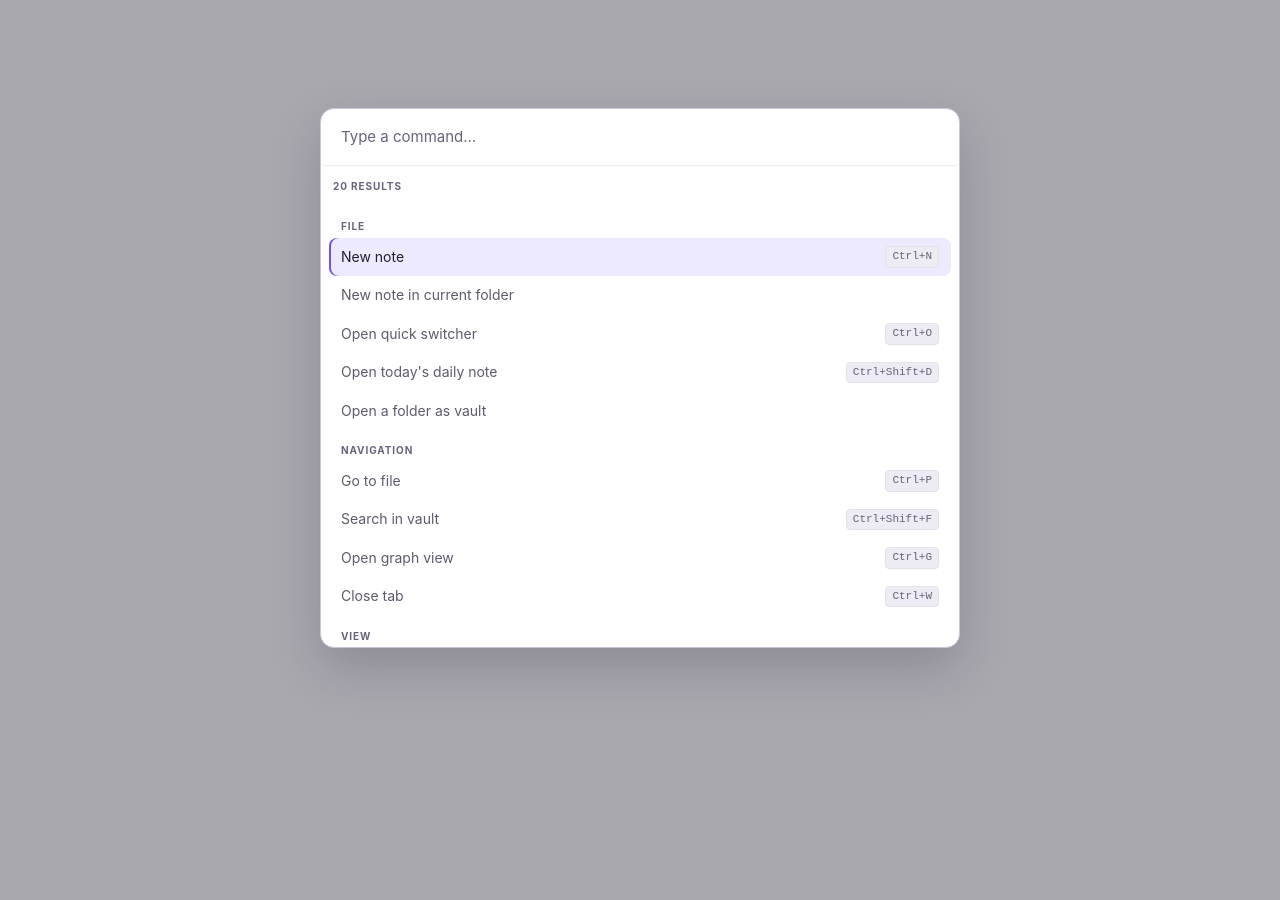
Test: CommandPalette › resets the selection when the query changes
Press ArrowDown in the dropdown, box [321, 109, 959, 166]
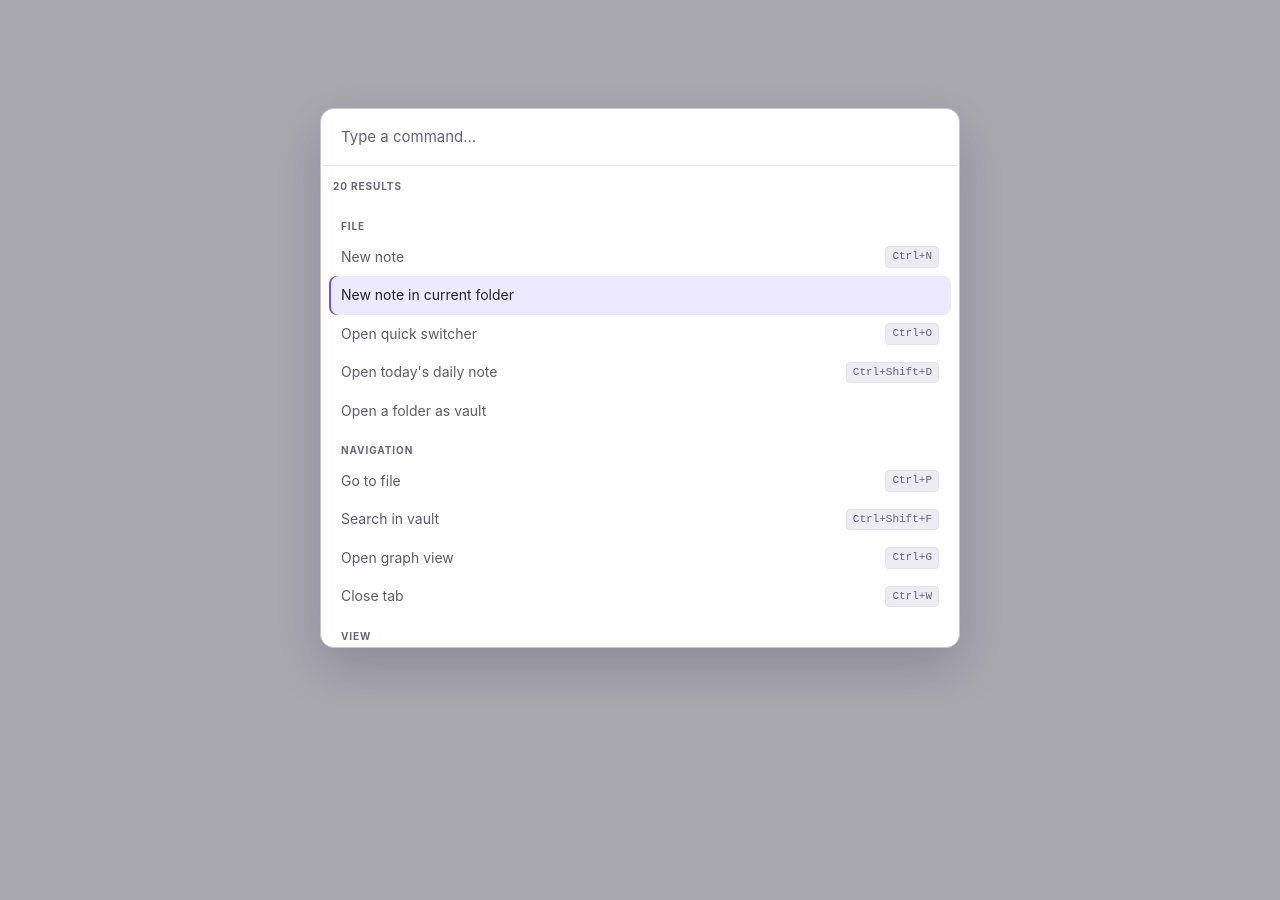
Press ArrowDown in the dropdown, box [321, 109, 959, 166]
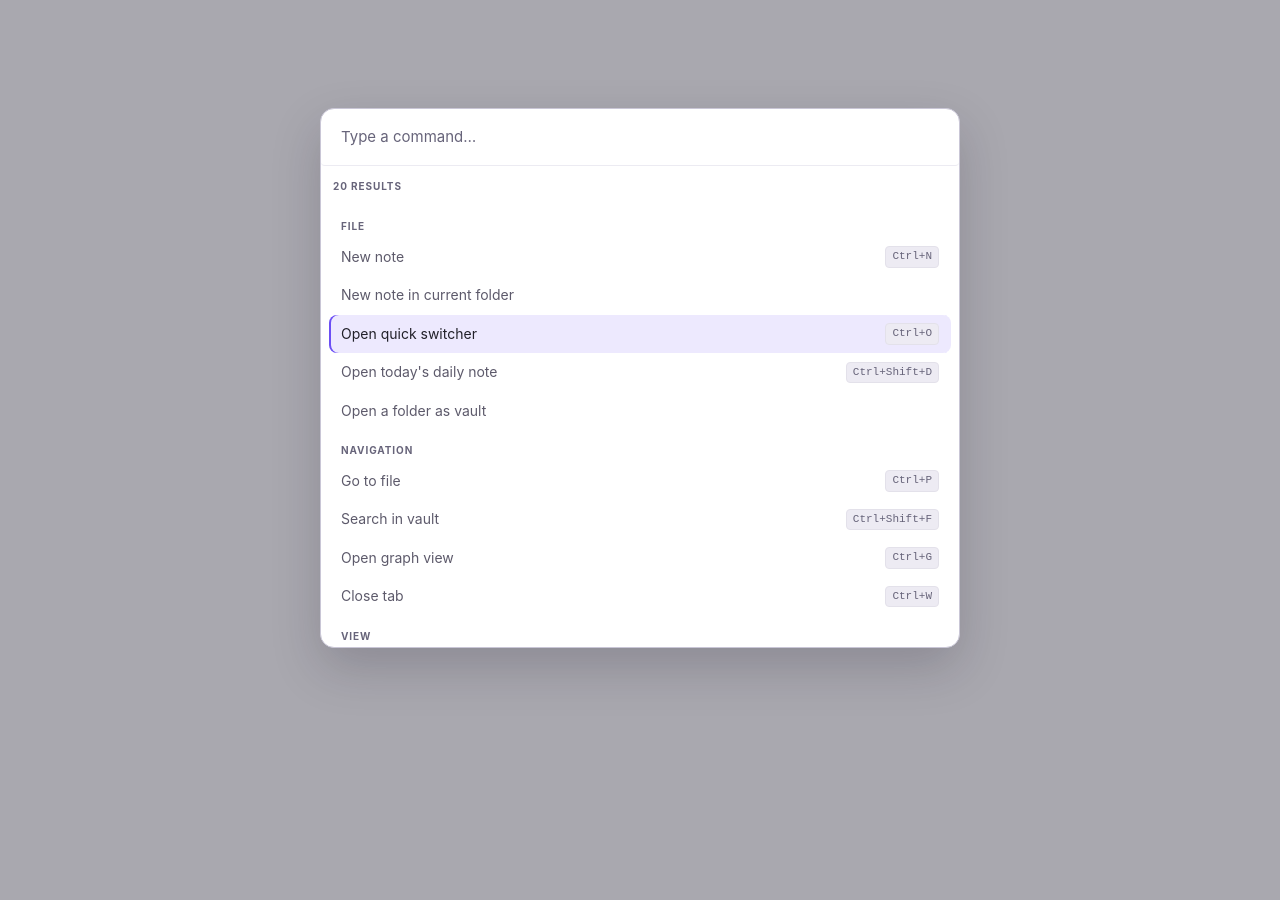
Type "toggle" into the dropdown.
click(640, 138); type("toggle")  # box [321, 109, 959, 166]
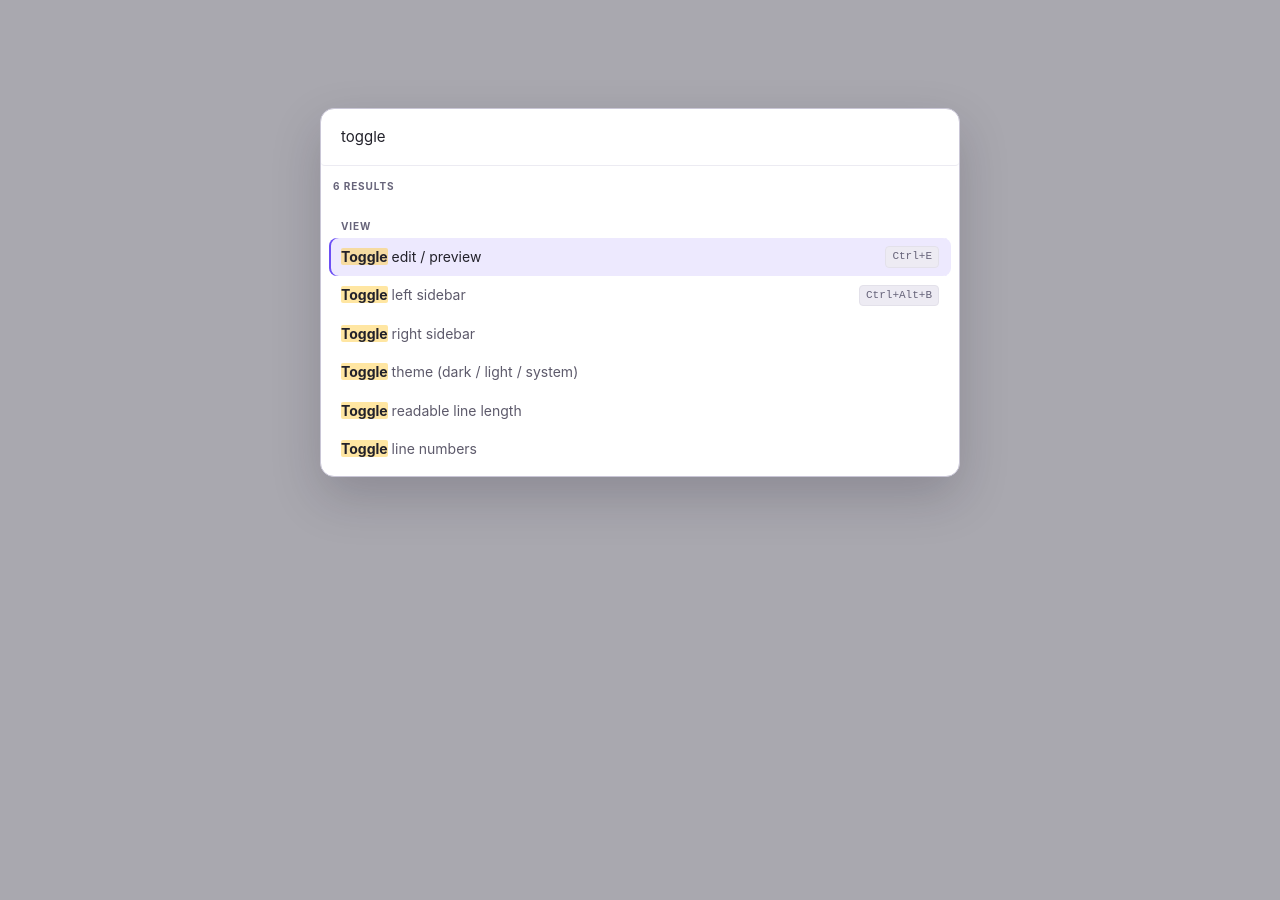
Expected: the element showing "Toggle edit / preview" is shown, [341, 248, 481, 265]
